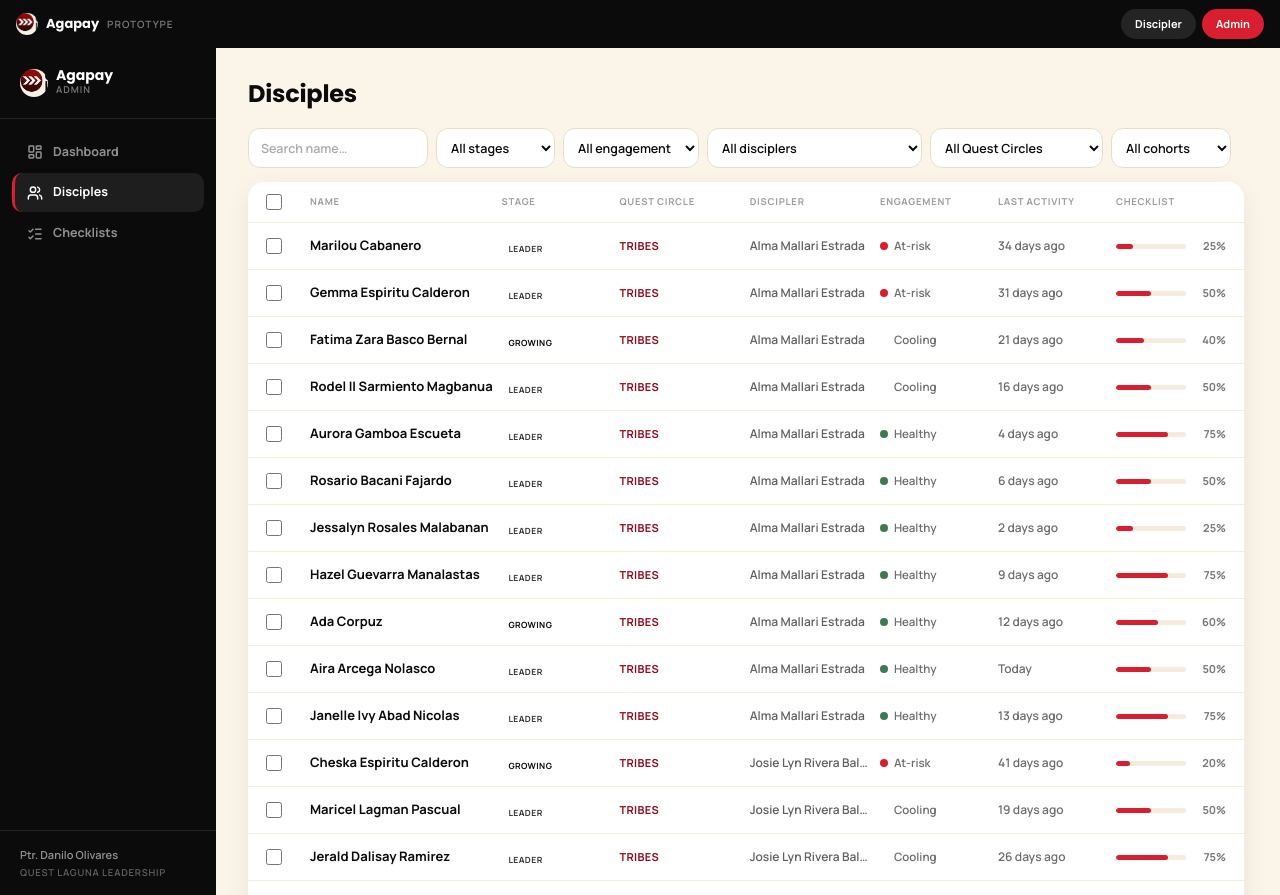
admin Disciples bulk reassign (demo) › keeps ticks on another page of the same filtered list
Expected: the checkbox named "Select page" is shown, [266,194,282,210]
What coordinates should you click on to do the following:
click the checkbox named "Select Marilou Cabanero"
I would click on:
 (274, 246)
Its box is [266,238,282,254].
(page scrolled)
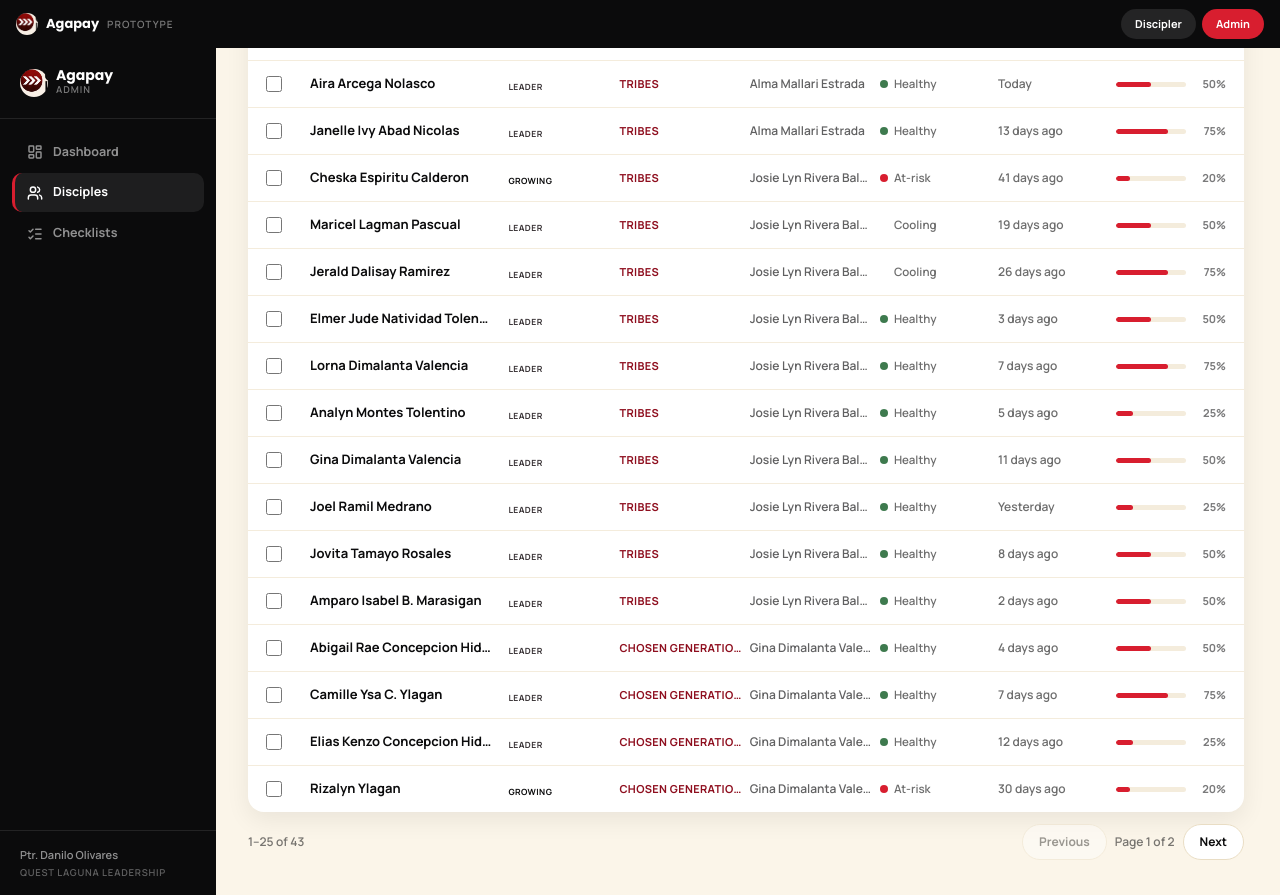
What coordinates should you click on to do the following:
click the button "Next"
I would click on:
 (1213, 842)
Its box is [1182,824,1244,860].
(page scrolled)
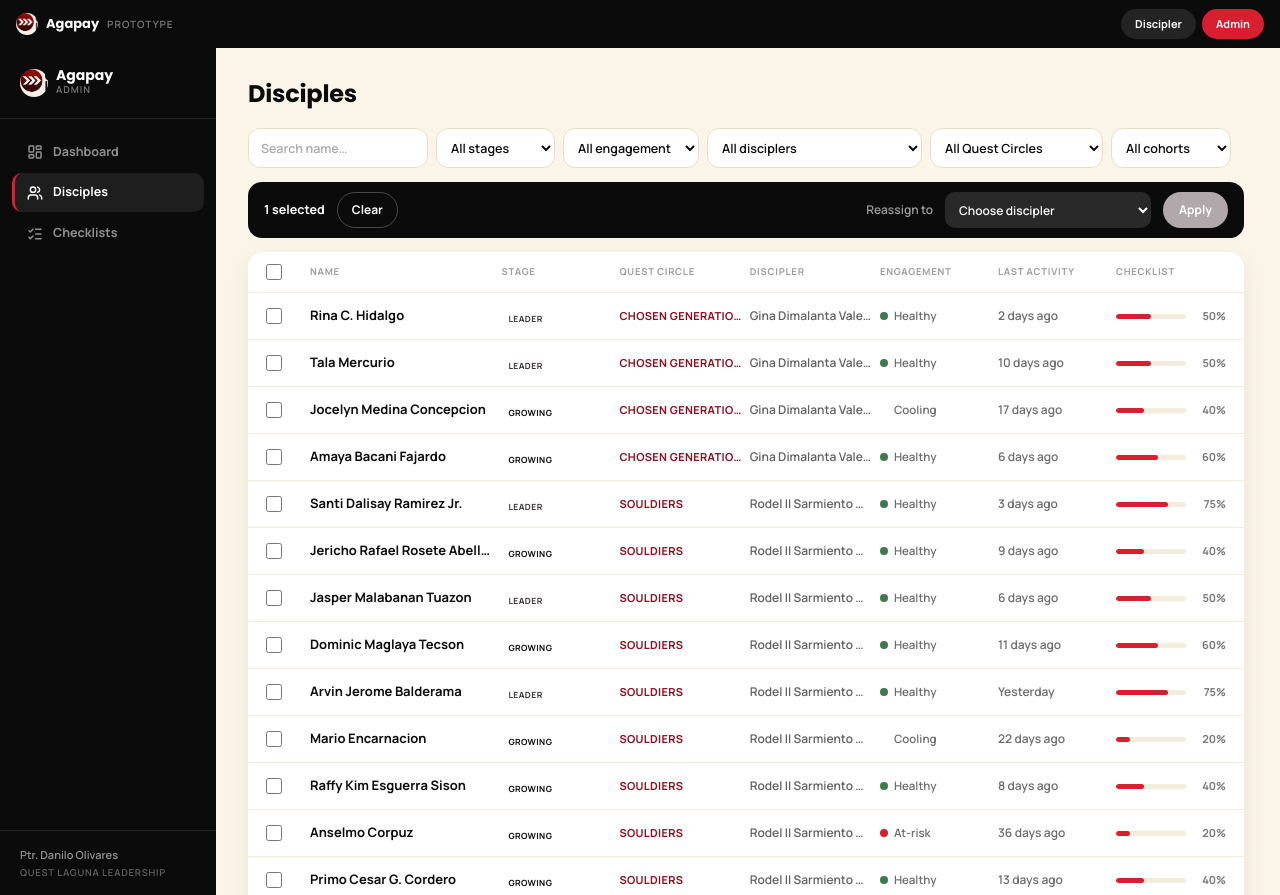
What coordinates should you click on to do the following:
click the checkbox named "Select Rina C. Hidalgo"
I would click on:
 (274, 316)
Its box is [266,308,282,324].
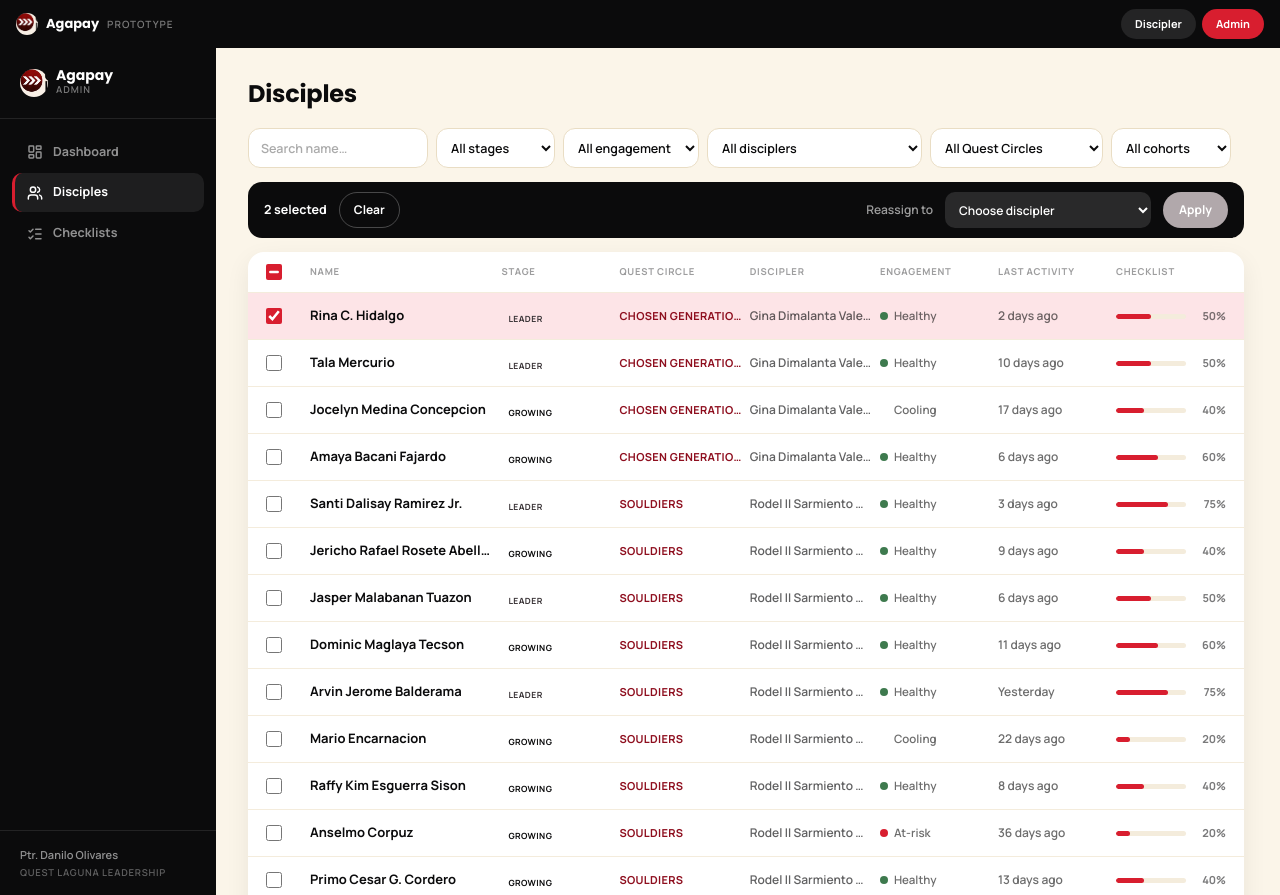
Result: the text "2 selected" is shown at [264,201,327,219]
